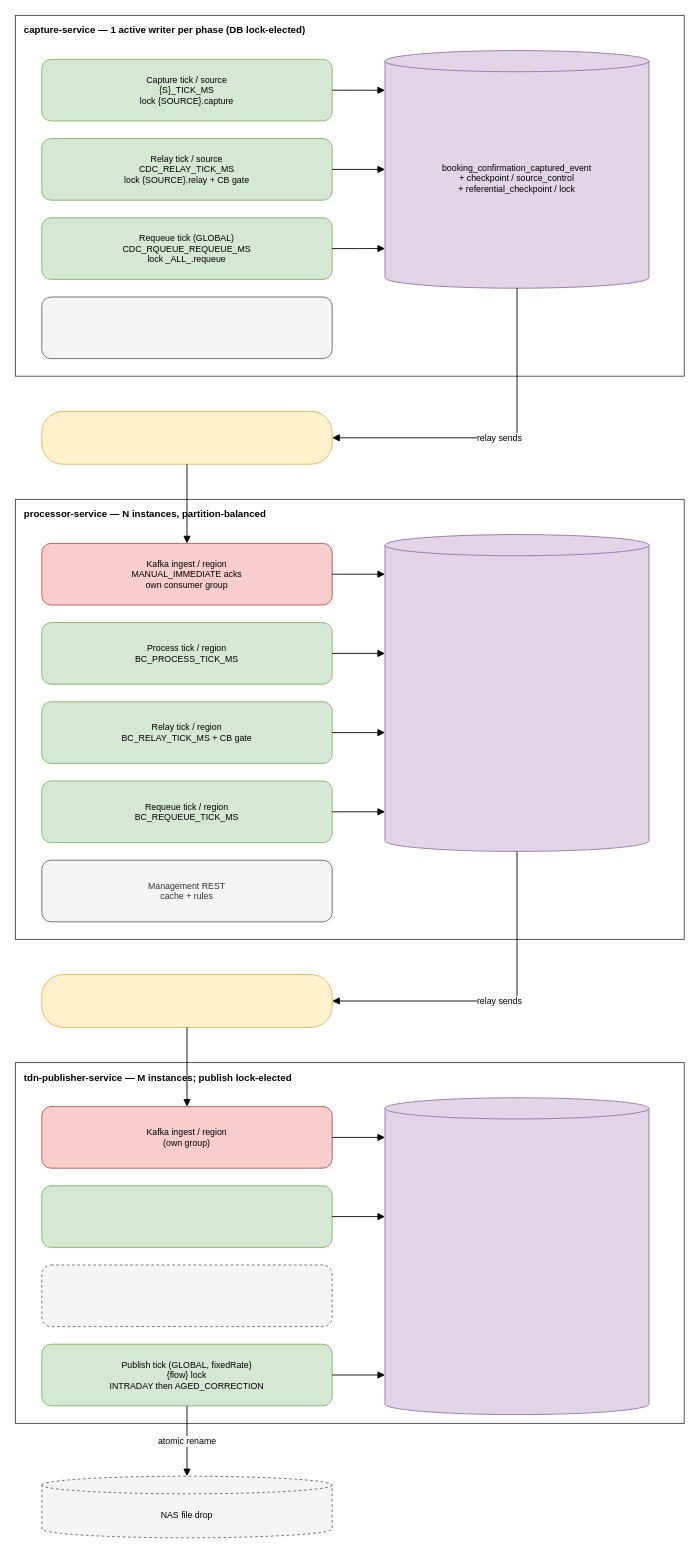
Some shapes in this 700 by 1553 pixel diagram are drawn without their labels. The centre of each missing label's shape, as x and y in pixels:
"Kafka region topics AMER | APAC | EMEA (published)" belongs at [186,1000].
"Kafka source topics KOP | GSS | CFL | SGP" belongs at [186,437].
"Management REST /api/management/*" belongs at [186,327].
"No management REST (actuator only)" belongs at [186,1295].
"outgoing_event publication + lock rows (shared)" belongs at [516,1256].
"Process tick / region {R}_PROCESSOR_TICK_INTERVAL_MS" belongs at [186,1216].
"staged_event / processed_event filter_rule / enrichment_rule" belongs at [516,692].
